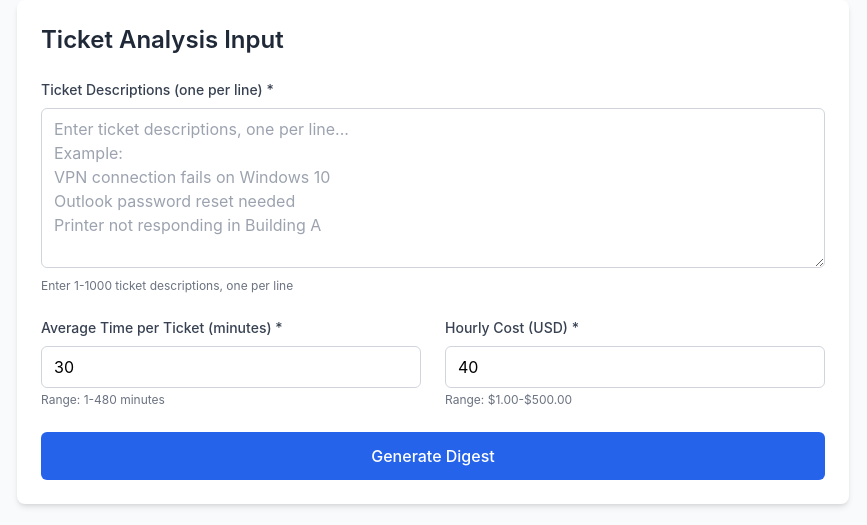
Scenario: Home Component › updates hourly cost on user input
This screenshot has width=867, height=525.
Replace the text in the number field labelled "Hourly Cost (USD) *" with "50.00" at [635, 367], box [445,346,825,388]
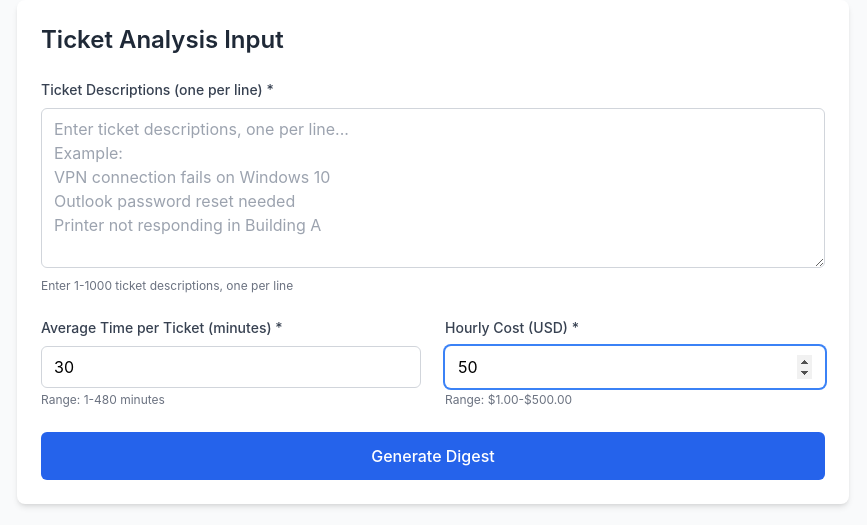
Expected: the number field labelled "Hourly Cost (USD) *" holds "50", [445,346,825,388]
